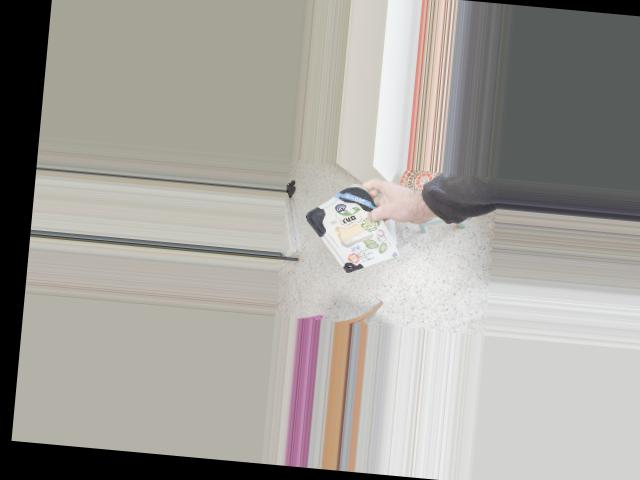cheese: (302, 178, 397, 285)
